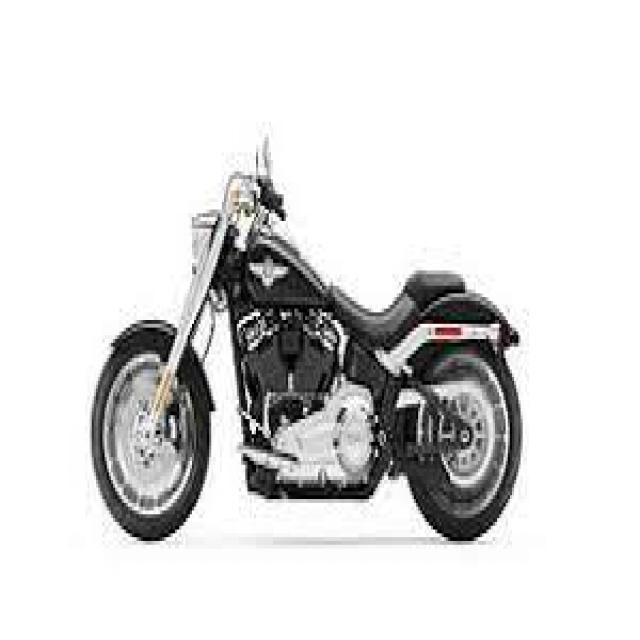Bike: (96, 130, 521, 542)
